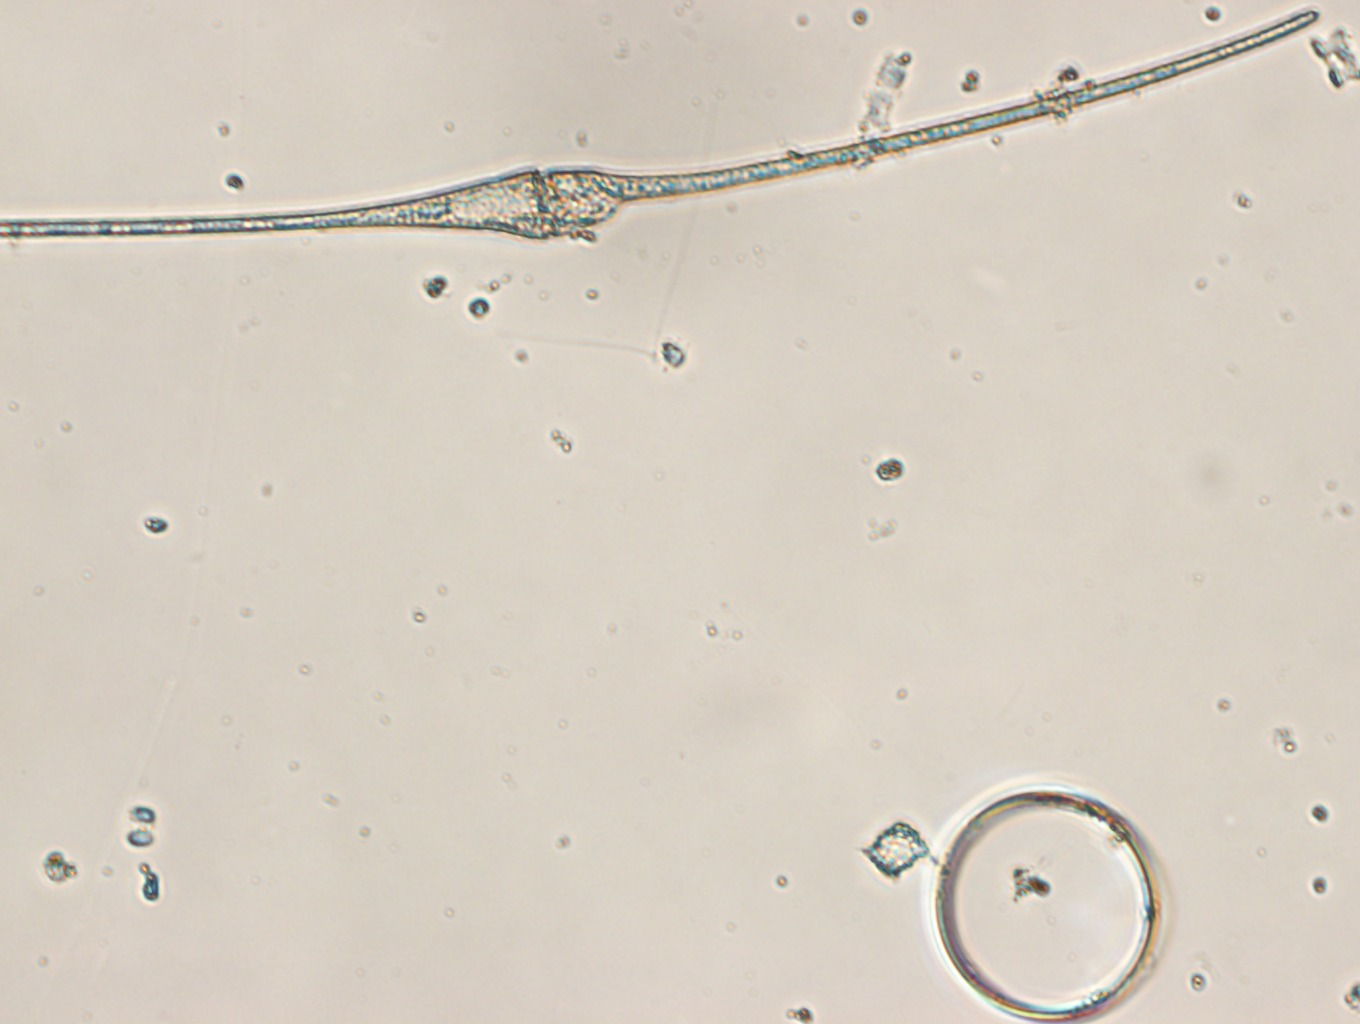ceratium fusus: (1, 5, 1318, 244)
coscinodiscus: (930, 785, 1158, 1024)
